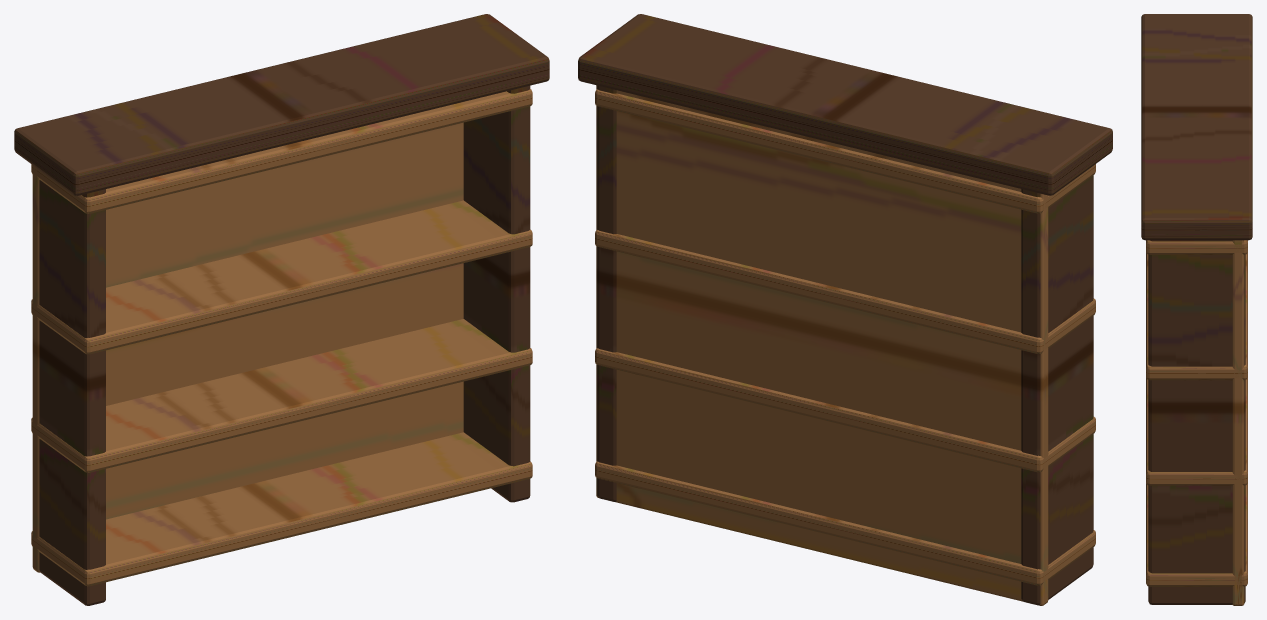
The model's file is SM_HH_V3_HerbShelf.fbx.
The picture shows the model from 3 angles, left to right: view 1: azimuth 30°, elevation 25°; view 2: azimuth 150°, elevation 25°; view 3: azimuth 270°, elevation 25°; orthographic projection. The views are drawn at different scales.
Visible parts, largest first — view 1: HH_V3_HerbShelf; view 2: HH_V3_HerbShelf; view 3: HH_V3_HerbShelf.
Part boxes in pixels (x1,y1,x2,y2): HH_V3_HerbShelf: [14, 14, 549, 605]; HH_V3_HerbShelf: [578, 14, 1112, 605]; HH_V3_HerbShelf: [1141, 14, 1252, 605].
Size of the model in its own units: 0.46 by 2.02 by 1.79.
